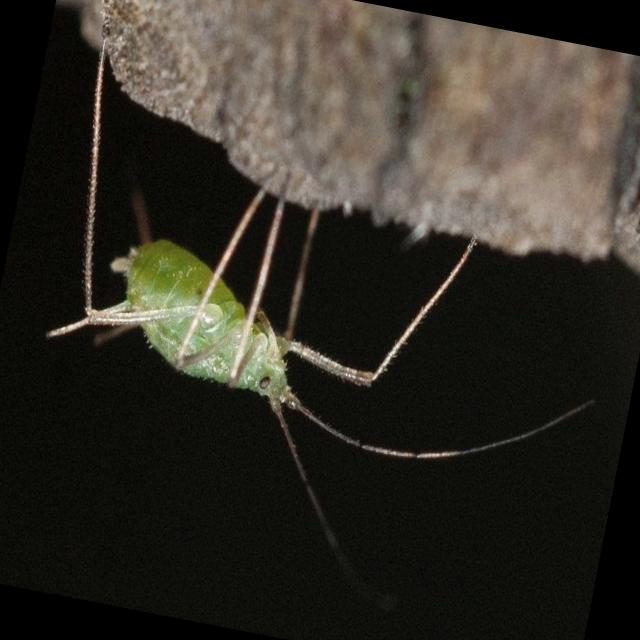Aphid: (22, 110, 592, 518)
